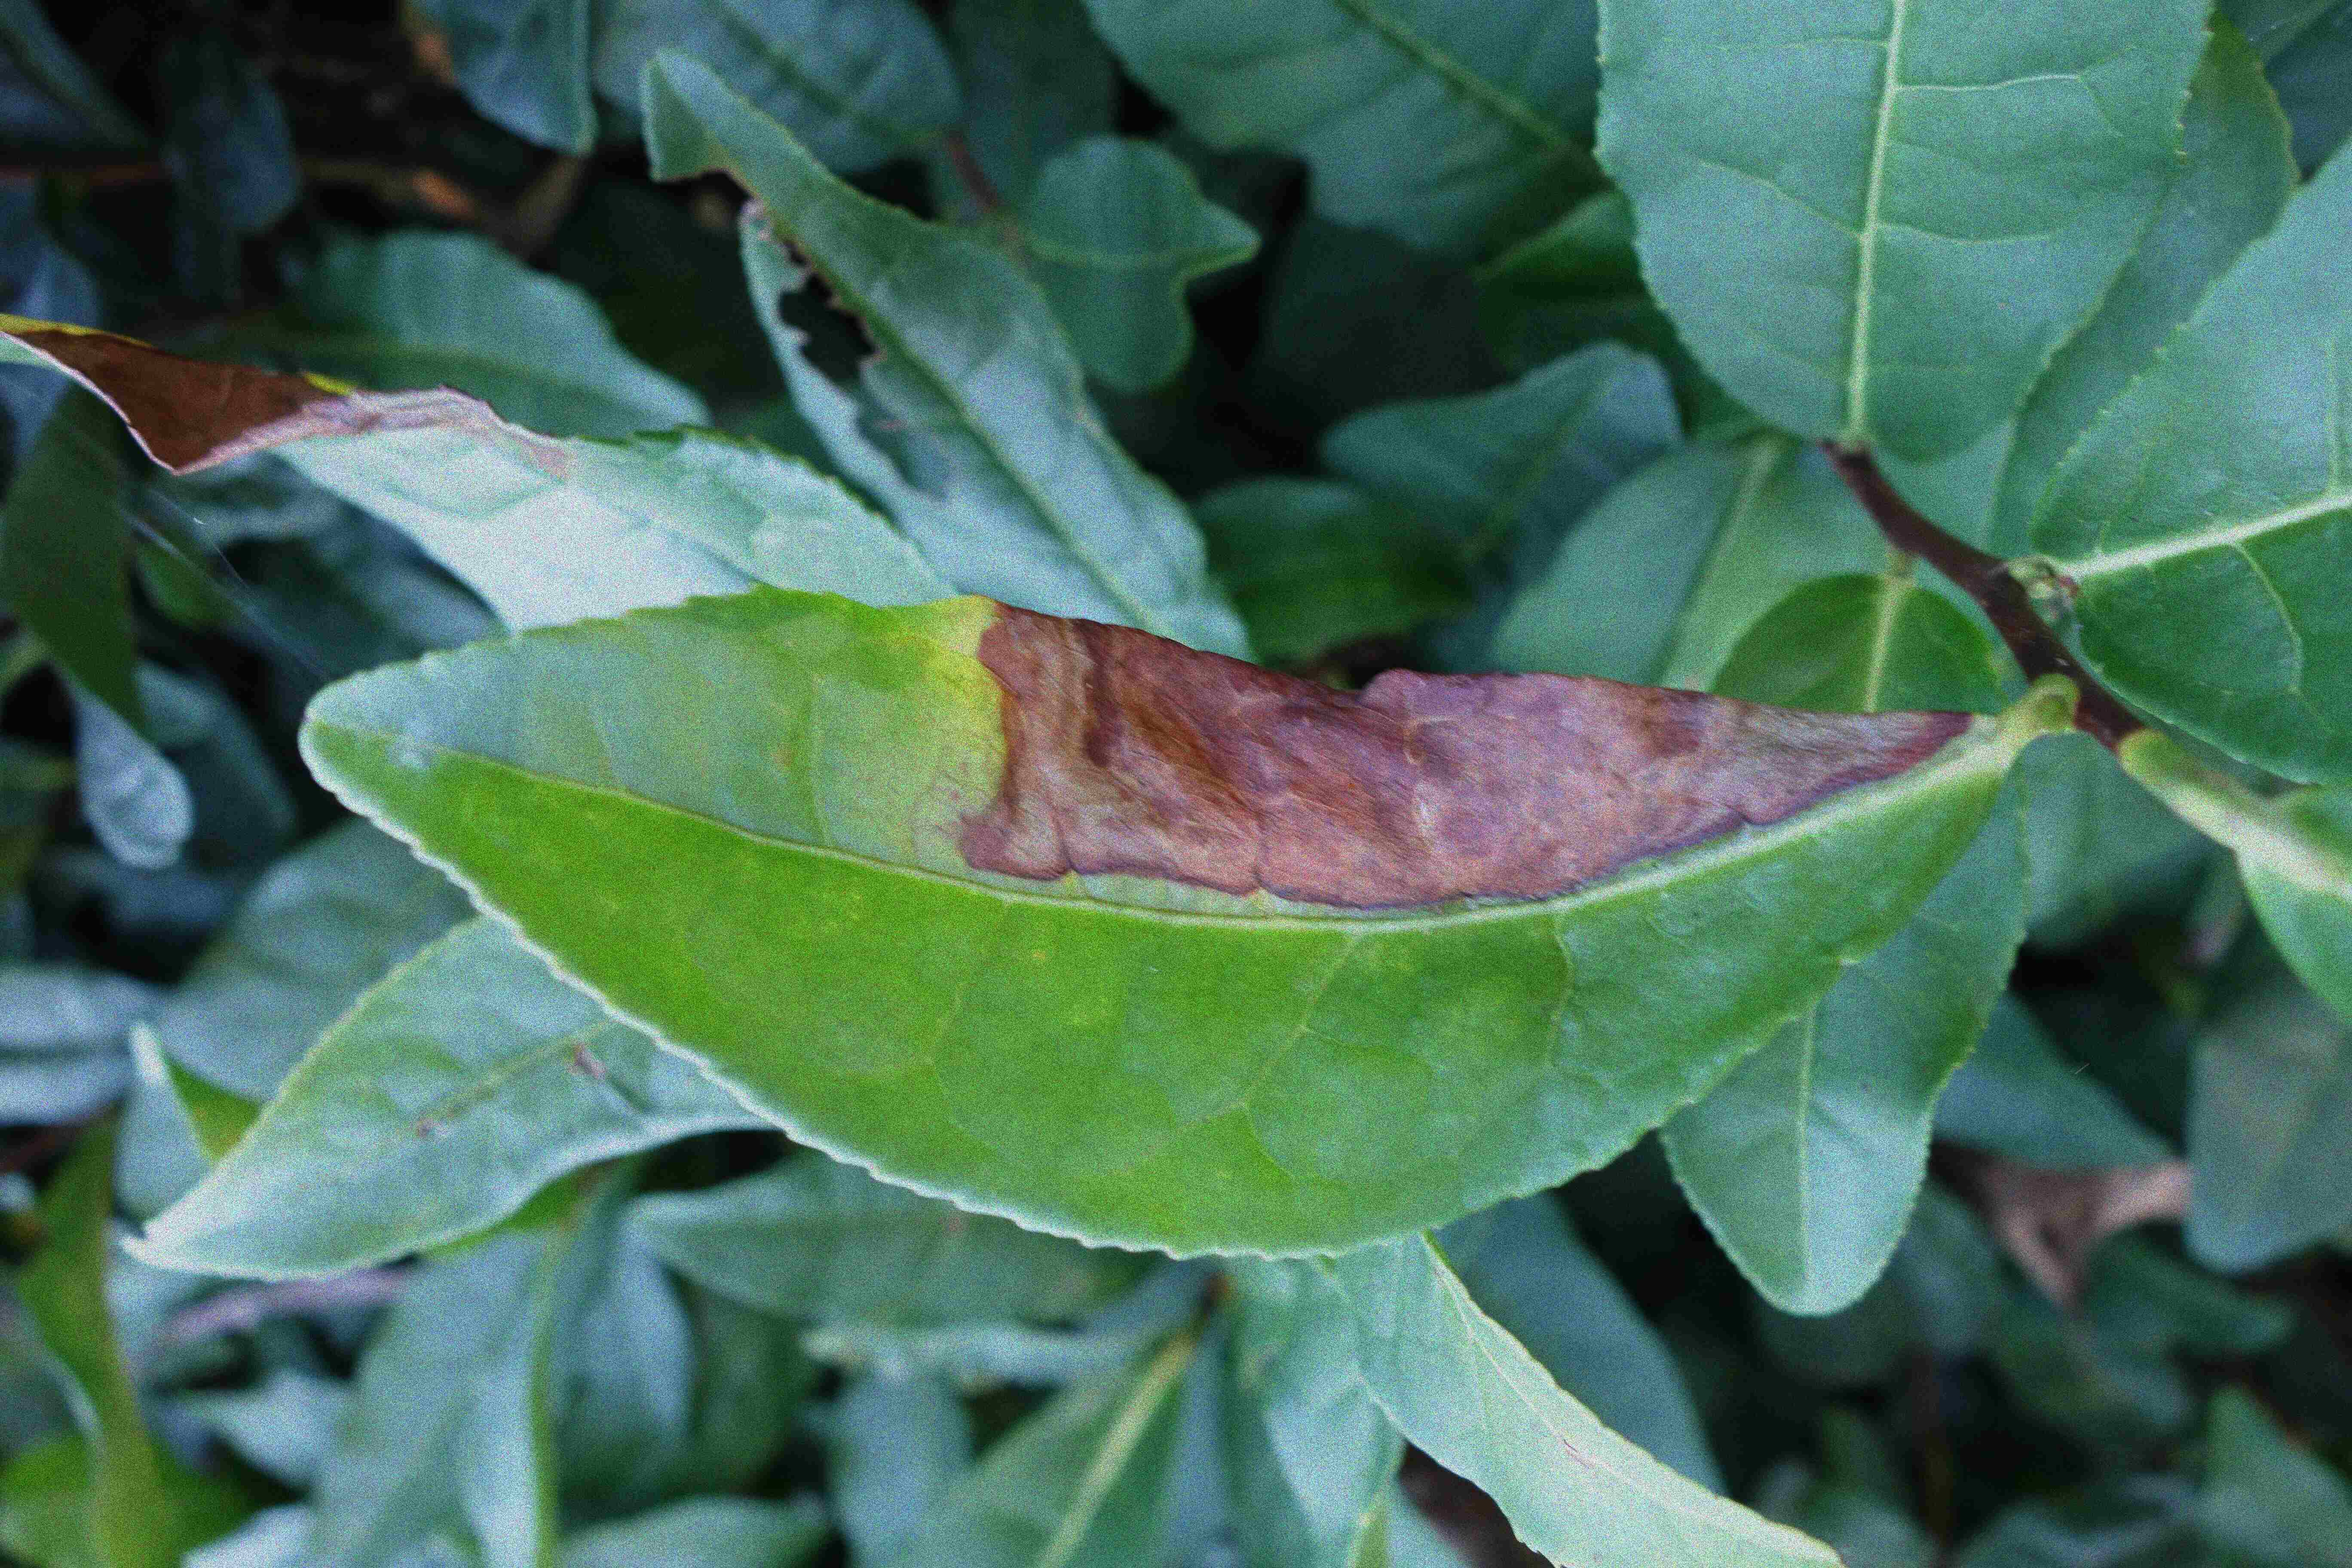healthy: (1587, 7, 2221, 462)
tanju_high: (294, 581, 2030, 1263)
